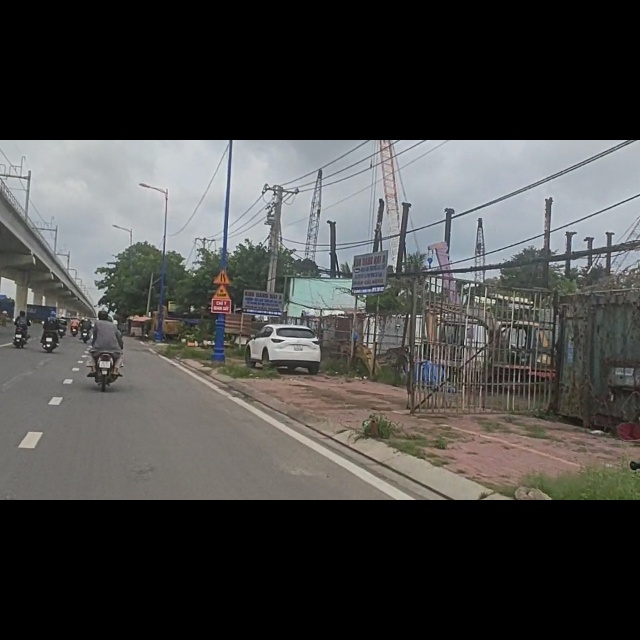bien_nguy_hiem: (212, 256, 232, 282), (213, 229, 230, 256)
